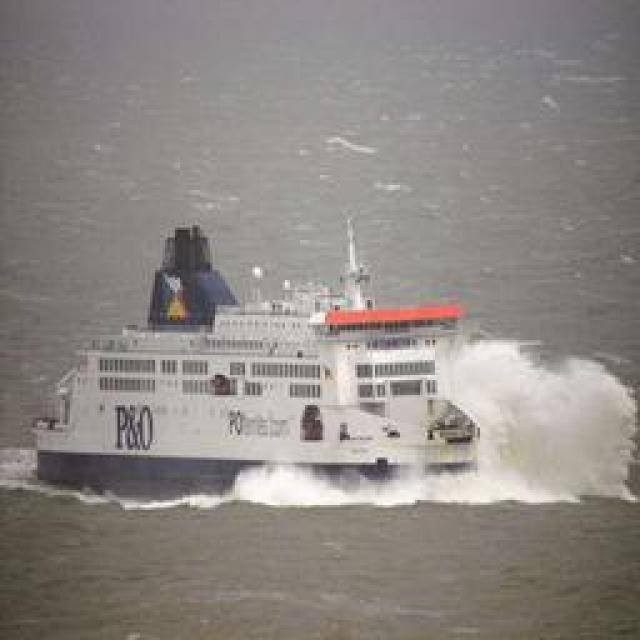ship2: (32, 213, 482, 509)
